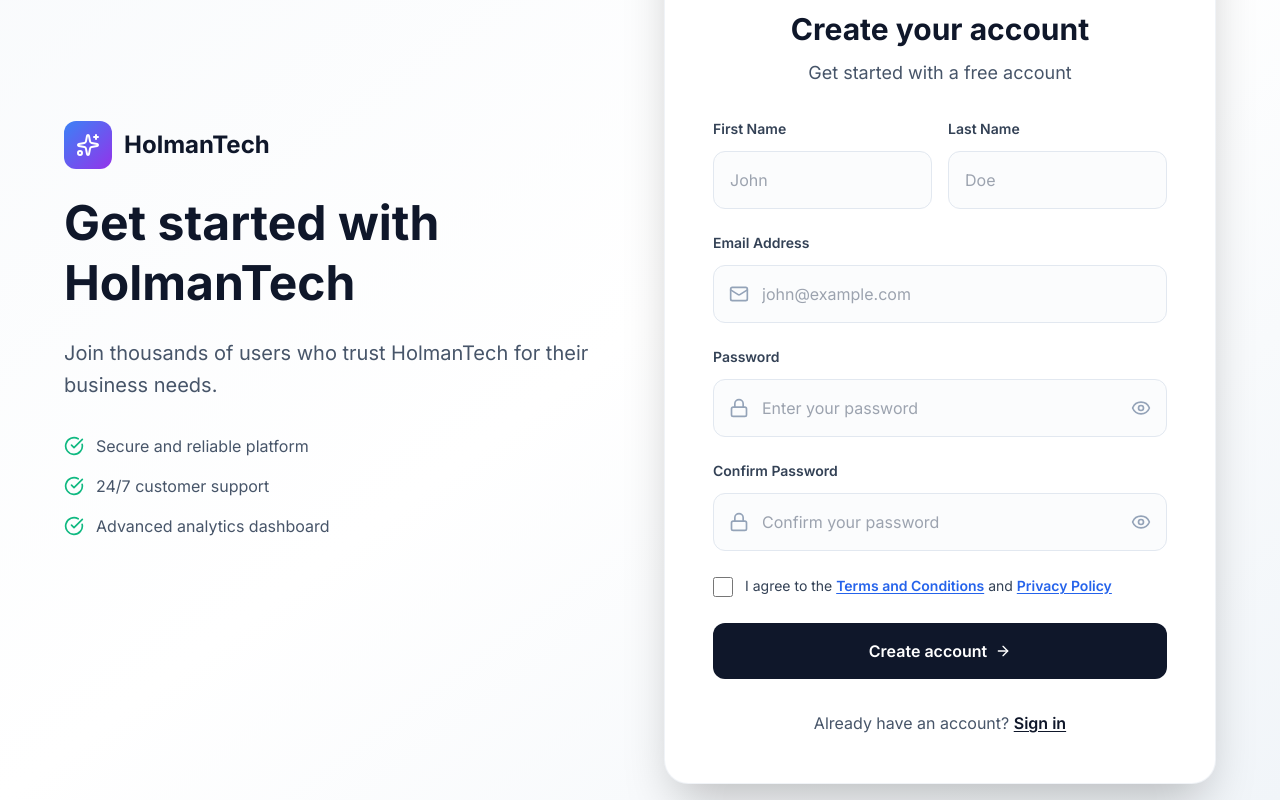
Test: App Component › Form Toggle › should switch to login form when toggle is clicked
(page scrolled)
Step 1. Click the button with test id "toggle-mode" → (1040,723), box [1014,711,1066,735]
(page scrolled)
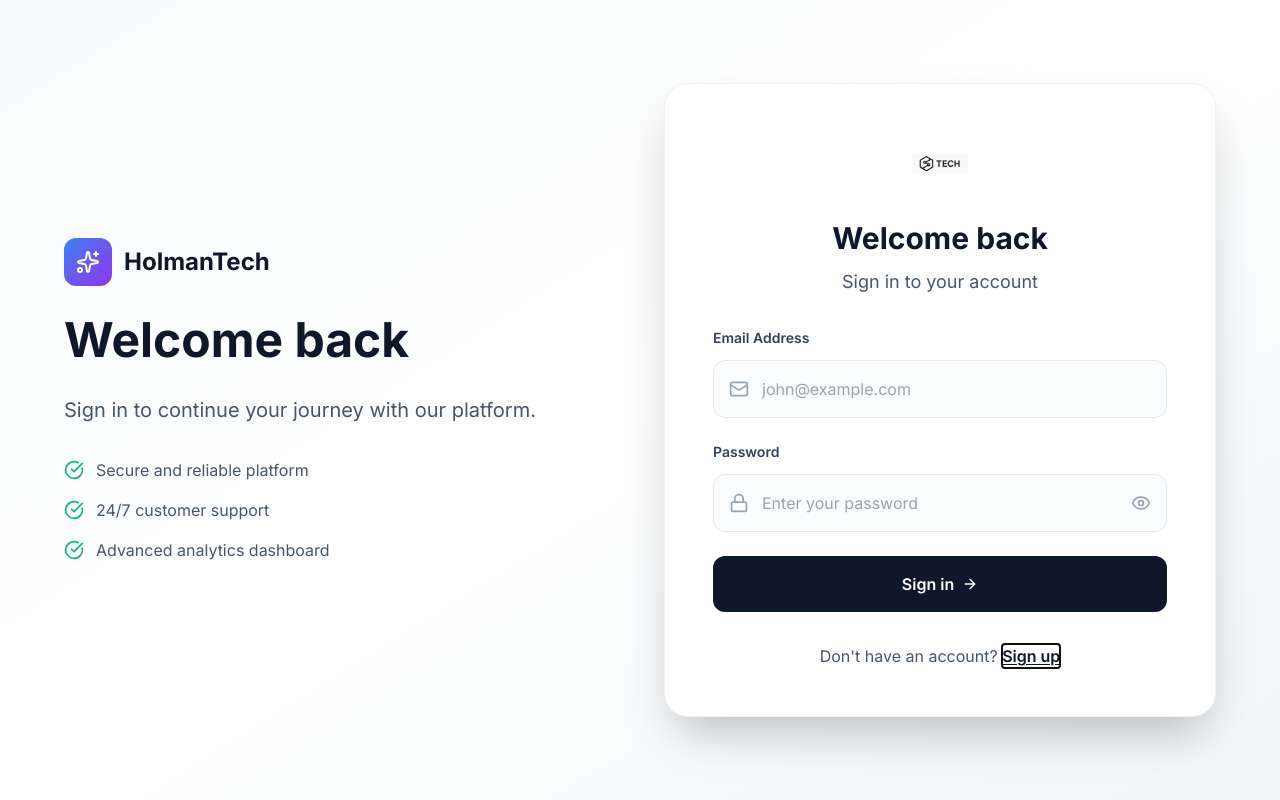
expect the 1st heading "Welcome back" is shown: met, box [832,220,1048,256]
expect the text "Sign in to your account" is shown: met, box [842,271,1038,292]
